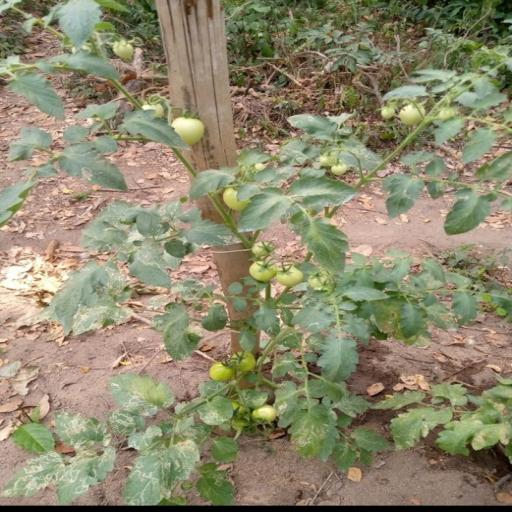Healthy: (119, 108, 192, 152), (299, 217, 350, 277), (8, 72, 67, 122), (317, 336, 360, 384)
Leaf_Miner: (0, 451, 120, 505), (118, 430, 199, 505), (108, 372, 178, 412), (57, 410, 114, 452), (198, 397, 234, 425)
